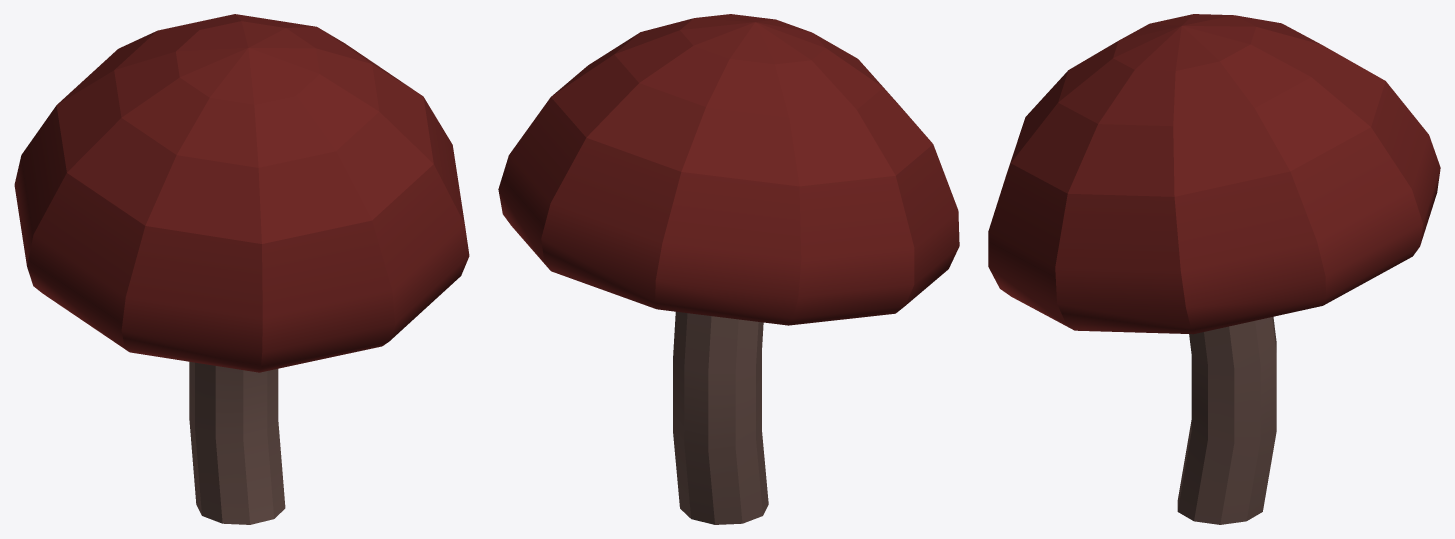
The model's file is CHAMPI_Rouge.fbx.
3 renders of one model, left to right at view 1: azimuth 30°, elevation 25°; view 2: azimuth 150°, elevation 25°; view 3: azimuth 270°, elevation 25°, orthographic.
Parts seen in each view (by area): view 1: Mushroom_001; view 2: Mushroom_001; view 3: Mushroom_001.
Boxes of the visible parts, left/top/right/bottom form: Mushroom_001: left=14, top=14, right=469, bottom=524; Mushroom_001: left=498, top=14, right=959, bottom=524; Mushroom_001: left=988, top=14, right=1440, bottom=524.
Size of the model in its own units: 2.58 by 2.92 by 2.52.
